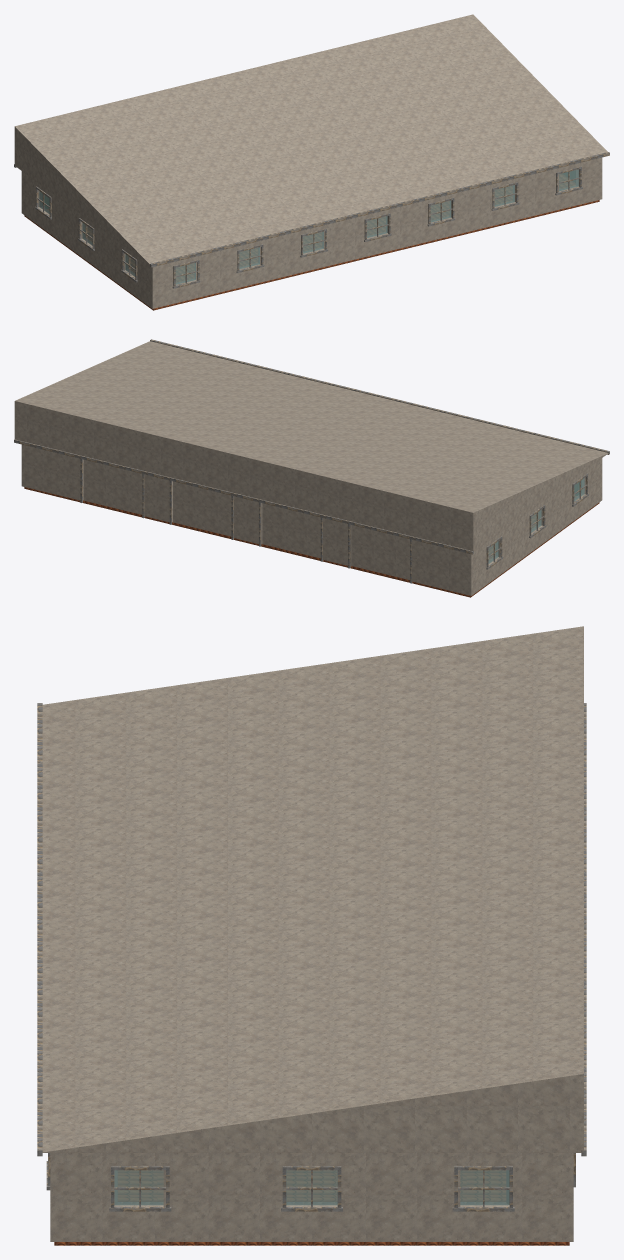
File: longspan-machine-shed.gltf
The picture shows the model from 3 angles, top to bottom: view 1: azimuth 30°, elevation 25°; view 2: azimuth 150°, elevation 25°; view 3: azimuth 270°, elevation 25°; orthographic projection. The views are drawn at different scales.
Parts seen in each view (by area): view 1: roof-L0-blue-metal, exterior-L0-blue-metal, trim-L0-dark-wood, glazing-L0-glass, floor-L0-floor, roof-L0-dark-wood; view 2: roof-L0-blue-metal, exterior-L0-blue-metal, door-leaf-L0-blue-metal (×4), roof-L0-dark-wood, trim-L0-dark-wood, floor-L0-floor, glazing-L0-glass; view 3: roof-L0-blue-metal, exterior-L0-blue-metal, floor-L0-floor, glazing-L0-glass, roof-L0-dark-wood, trim-L0-dark-wood.
Boxes of the visible parts, box(x1,y1,x2,y2) form: roof-L0-blue-metal: box(14, 14, 607, 264); exterior-L0-blue-metal: box(21, 157, 602, 308); trim-L0-dark-wood: box(35, 166, 582, 288); glazing-L0-glass: box(39, 169, 578, 284); floor-L0-floor: box(24, 174, 599, 310); roof-L0-dark-wood: box(14, 152, 609, 267); roof-L0-blue-metal: box(14, 341, 608, 551); exterior-L0-blue-metal: box(21, 444, 602, 595); door-leaf-L0-blue-metal (×4): box(83, 460, 409, 580); roof-L0-dark-wood: box(14, 339, 609, 554); trim-L0-dark-wood: box(80, 459, 588, 583); floor-L0-floor: box(24, 487, 599, 597); glazing-L0-glass: box(488, 478, 584, 563); roof-L0-blue-metal: box(42, 626, 583, 1152); exterior-L0-blue-metal: box(50, 1153, 573, 1241); floor-L0-floor: box(54, 1171, 569, 1245); glazing-L0-glass: box(114, 1170, 509, 1205); roof-L0-dark-wood: box(37, 703, 586, 1156); trim-L0-dark-wood: box(46, 1153, 575, 1211).
Bounding box in the file's own units: 20.56 × 3.81 × 10.66.
5 materials, 4 textured.
